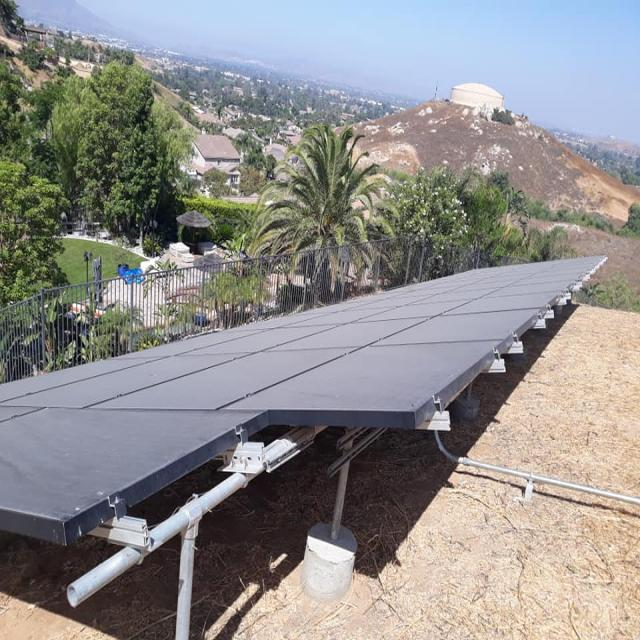dust-solar-panel: (0, 259, 607, 522)
